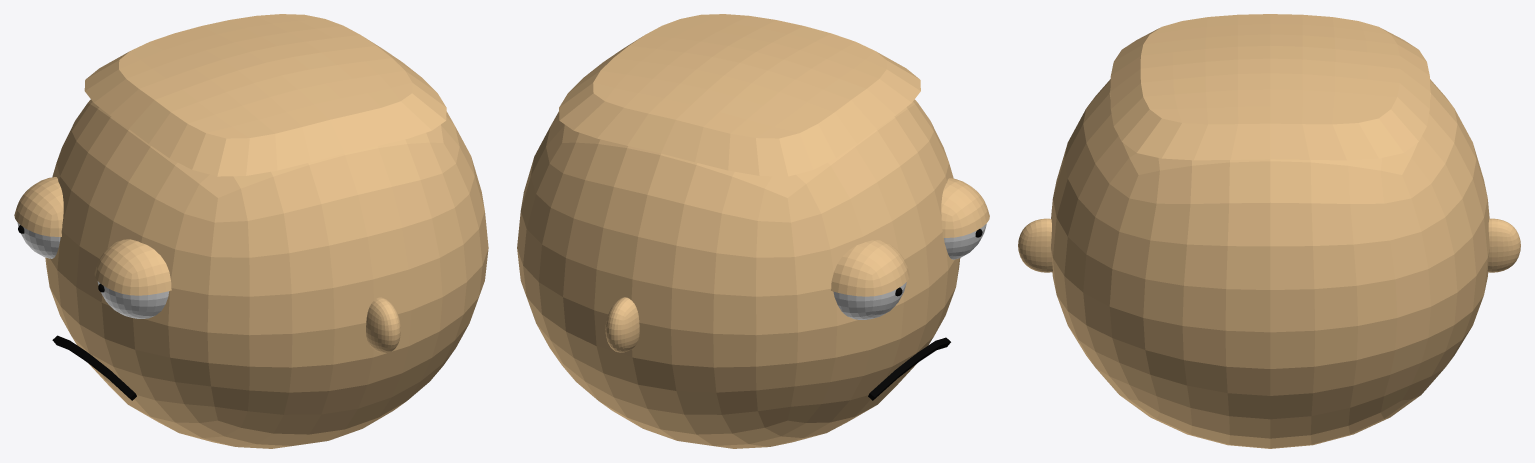
The model's file is map.fbx.
3 renders of one model, left to right at view 1: azimuth 30°, elevation 25°; view 2: azimuth 150°, elevation 25°; view 3: azimuth 270°, elevation 25°, orthographic.
Parts seen in each view (by area): view 1: Cube, Plane, Cube.001, Cube.002, Plane.001; view 2: Cube, Plane, Cube.001, Cube.002, Plane.001; view 3: Cube, Plane, Cube.002.
Part boxes in pixels (bbox=[...]): Cube: bbox=[45, 99, 488, 448]; Plane: bbox=[84, 14, 446, 176]; Cube.001: bbox=[14, 177, 171, 318]; Cube.002: bbox=[366, 297, 400, 353]; Plane.001: bbox=[52, 335, 136, 400]; Cube: bbox=[517, 99, 960, 448]; Plane: bbox=[559, 14, 920, 176]; Cube.001: bbox=[831, 178, 989, 319]; Cube.002: bbox=[605, 297, 639, 352]; Plane.001: bbox=[868, 337, 950, 400]; Cube: bbox=[1051, 79, 1489, 448]; Plane: bbox=[1110, 14, 1430, 160]; Cube.002: bbox=[1018, 218, 1520, 272].
Size of the model in its own units: 3490 by 3073 by 3816.
